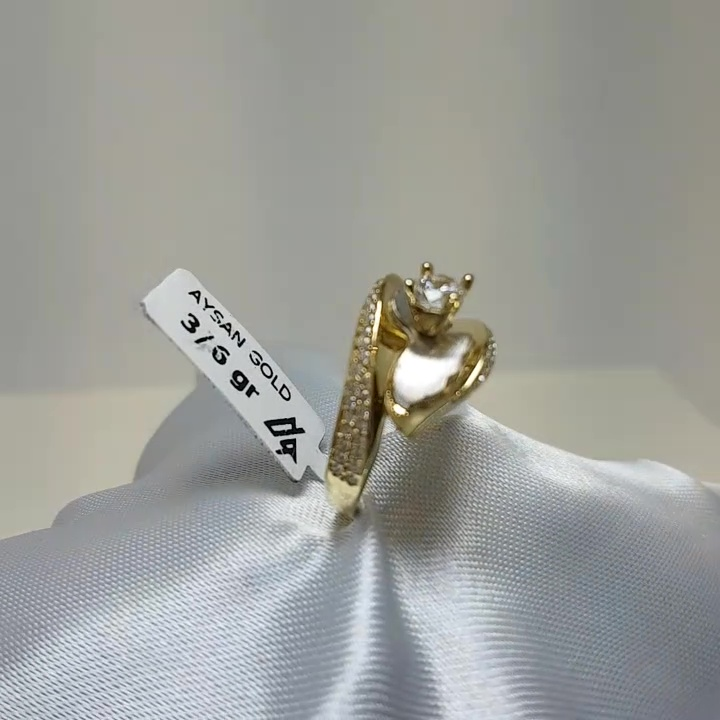Ring 6: (279, 244, 519, 526)
